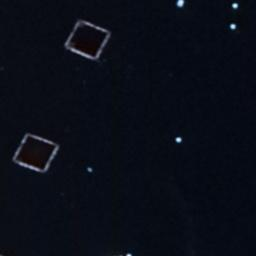square_solid: (8, 127, 67, 181), (60, 15, 115, 64)
